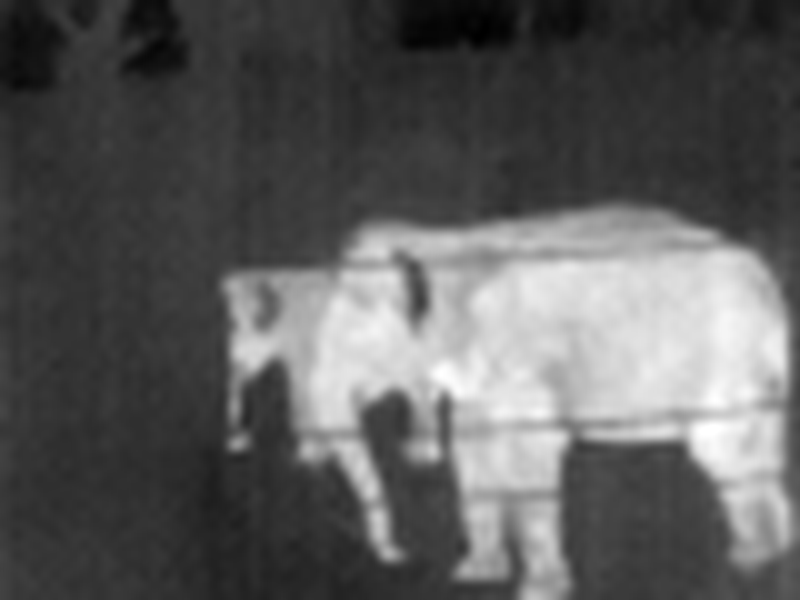elephant: (227, 215, 800, 594)
